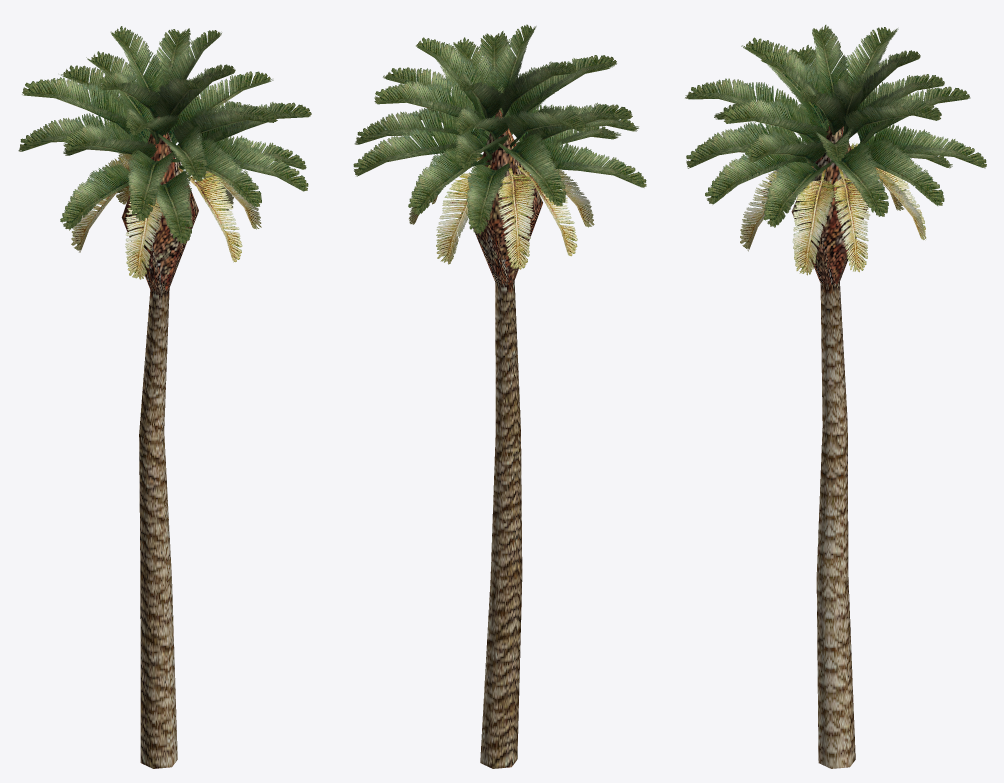
File: cretan_date_03.glb
The picture shows the model from 3 angles, left to right: view 1: azimuth 30°, elevation 25°; view 2: azimuth 150°, elevation 25°; view 3: azimuth 270°, elevation 25°; orthographic projection.
Bounding box in the file's own units: 9.03 × 23.91 × 9.32.
Materials: 1 (1 with a texture image).
